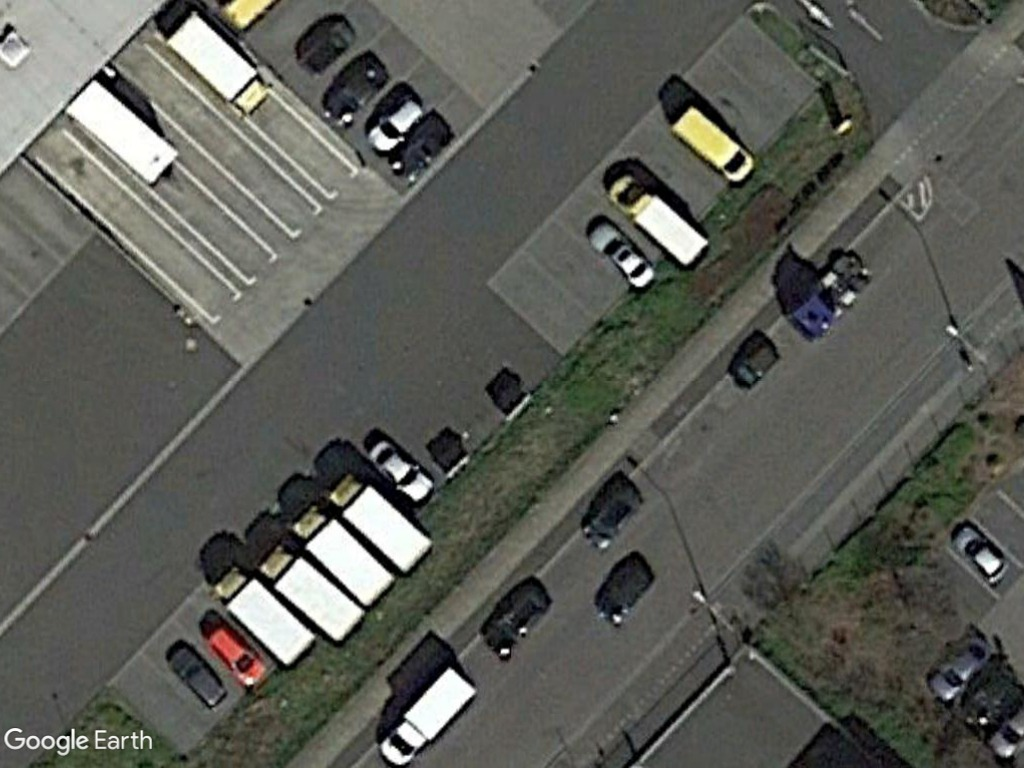car: (586, 220, 660, 290), (923, 638, 997, 707), (364, 440, 435, 504), (950, 518, 1013, 587)
longvehicle: (60, 76, 182, 190)
truck: (322, 470, 437, 578), (255, 540, 370, 646), (163, 8, 272, 118), (207, 563, 320, 668), (285, 504, 396, 608), (379, 662, 481, 768)
van: (604, 173, 712, 270), (667, 102, 757, 189), (362, 93, 427, 158)
